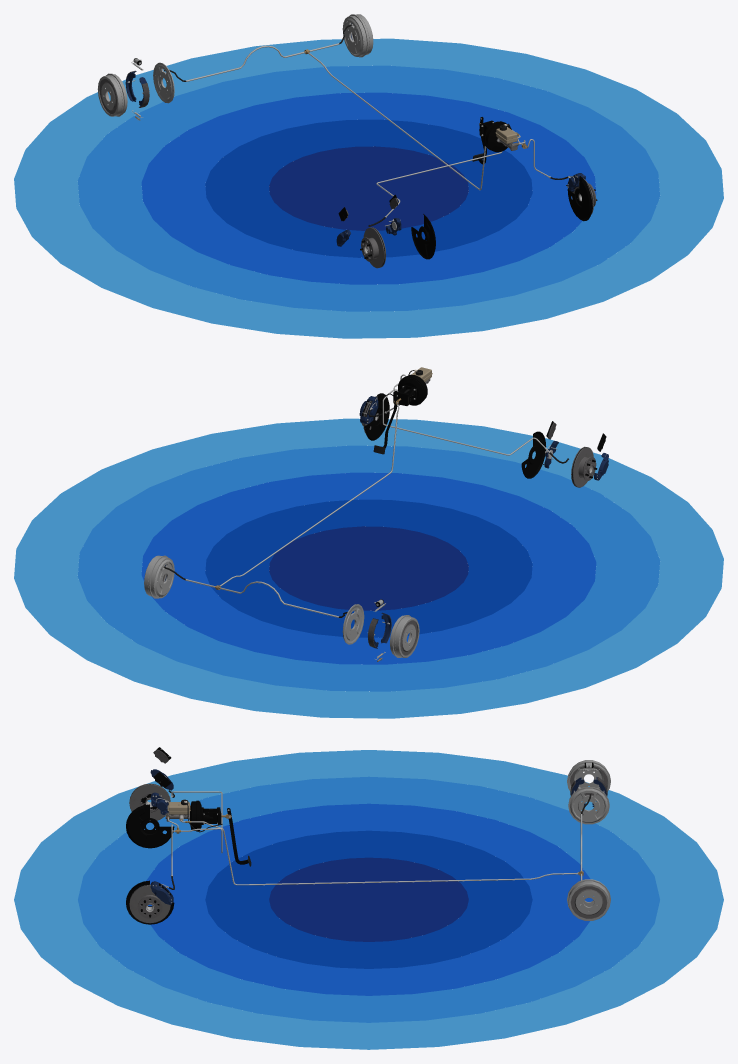
File: tcc_models-brakesMAIN.glb
3 views of the same model, one above another, from view 1: azimuth 30°, elevation 25°; view 2: azimuth 150°, elevation 25°; view 3: azimuth 270°, elevation 25° (orthographic).
Visible parts, largest first — view 1: Circle, tambor, disco_completo, brake lines, brake_booster; view 2: Circle, tambor, disco_completo, brake lines, brake_booster; view 3: Circle, disco_completo, tambor, brake lines, brake_booster.
Part boxes in pixels (x1,y1,x2,y2): Circle: (14,38,723,338); tambor: (97,14,373,120); disco_completo: (336,173,597,268); brake lines: (164,24,568,226); brake_booster: (472,117,519,164); Circle: (14,418,723,718); tambor: (144,555,419,661); disco_completo: (359,393,608,487); brake lines: (164,374,568,617); brake_booster: (373,367,432,454); Circle: (14,750,723,1049); disco_completo: (126,747,174,924); tambor: (567,760,610,920); brake lines: (167,790,591,889); brake_booster: (165,799,251,866).
Size of the model in its own units: 4 by 0.7457 by 4.
11 materials, 6 textured.
